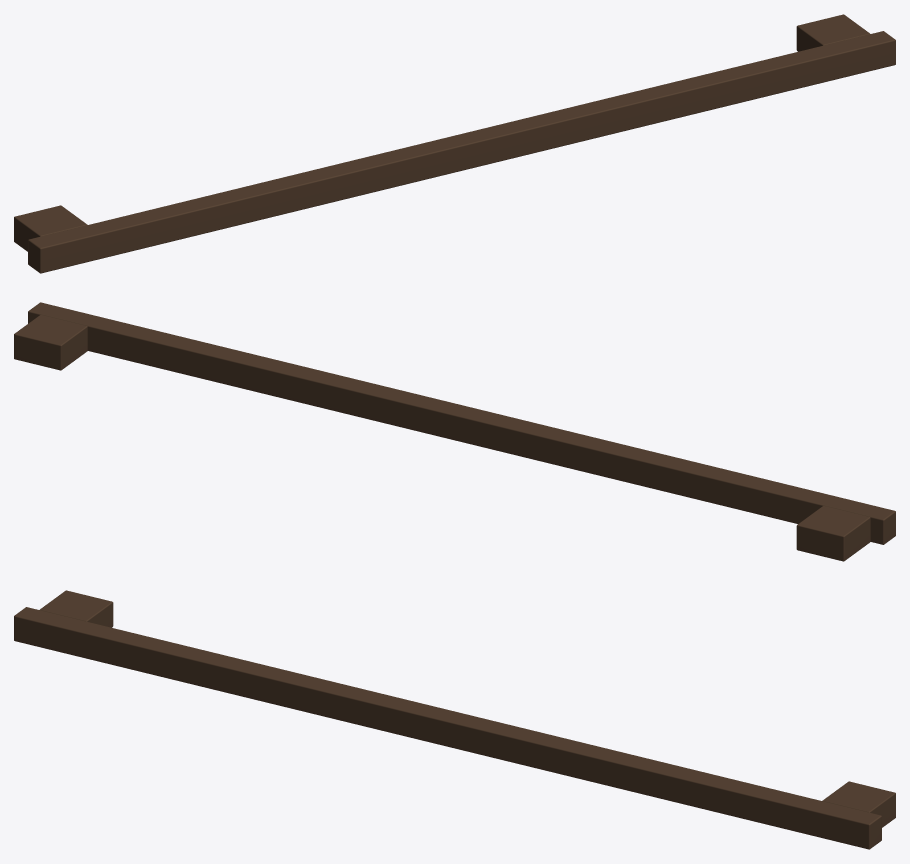
Rendered from eurofit-h-355-320orb.glb.
The picture shows the model from 3 angles, top to bottom: view 1: azimuth 30°, elevation 25°; view 2: azimuth 150°, elevation 25°; view 3: azimuth 330°, elevation 25°; orthographic projection.
Parts seen in each view (by area): view 1: Blade grip, Mounting standoff, Mounting standoff.001; view 2: Blade grip, Mounting standoff, Mounting standoff.001; view 3: Blade grip, Mounting standoff.001, Mounting standoff.
Boxes of the visible parts, x1,y1,x2,y2 form: Blade grip: [28, 31, 895, 273]; Mounting standoff: [14, 205, 87, 251]; Mounting standoff.001: [796, 14, 869, 51]; Blade grip: [28, 302, 895, 544]; Mounting standoff: [796, 505, 870, 561]; Mounting standoff.001: [14, 315, 87, 370]; Blade grip: [14, 607, 881, 849]; Mounting standoff.001: [822, 781, 895, 827]; Mounting standoff: [40, 590, 113, 627].
Size of the model in its own units: 0.35 by 0.01 by 0.028.
